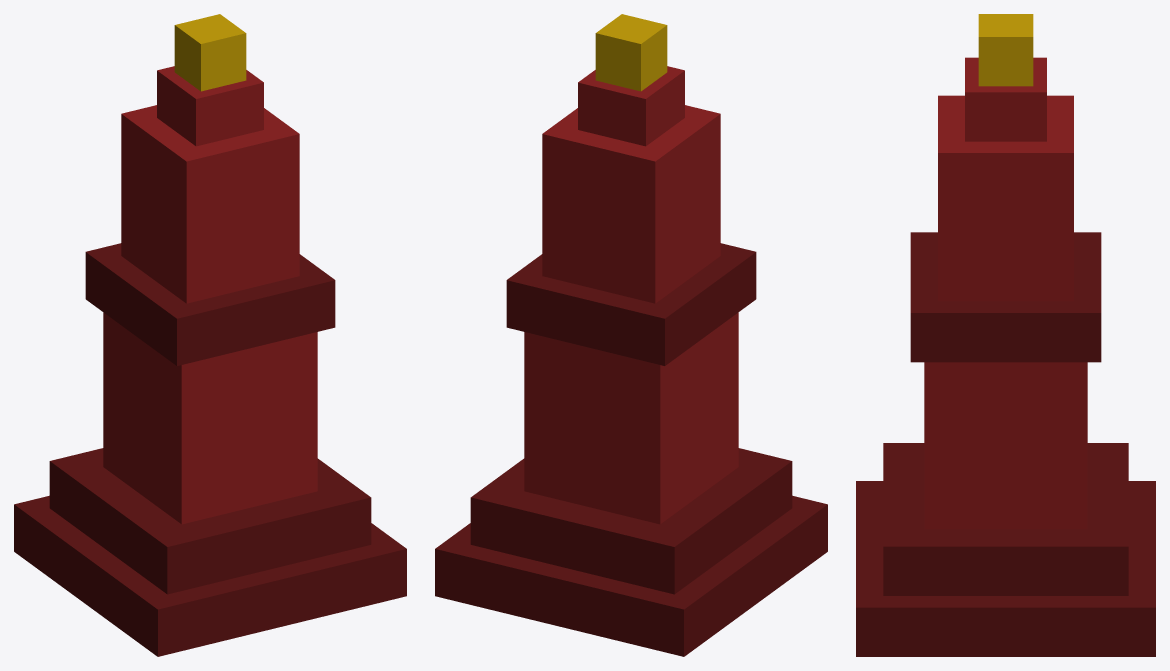
Rendered from bishop.gltf.
3 views of the same model, side by side, from view 1: azimuth 30°, elevation 25°; view 2: azimuth 150°, elevation 25°; view 3: azimuth 270°, elevation 25° (orthographic). The views are drawn at different scales.
Parts seen in each view (by area): view 1: body, head, base, foot, collar, mitre, orb; view 2: body, head, base, foot, collar, mitre, orb; view 3: body, base, head, foot, collar, mitre, orb.
Part boxes in pixels (x1,y1,x2,y2): body: (103, 312, 317, 524); head: (121, 105, 299, 303); base: (14, 495, 406, 656); foot: (49, 448, 371, 594); collar: (85, 243, 335, 365); mitre: (157, 66, 263, 146); orb: (174, 14, 246, 91); body: (524, 312, 738, 524); head: (542, 105, 720, 303); base: (435, 495, 827, 656); foot: (470, 448, 792, 594); collar: (506, 243, 756, 365); mitre: (578, 66, 684, 146); orb: (595, 14, 667, 91); body: (924, 362, 1087, 529); base: (856, 481, 1155, 656); head: (938, 95, 1073, 301); foot: (883, 443, 1128, 595); collar: (910, 232, 1101, 362); mitre: (965, 57, 1046, 141); orb: (978, 14, 1033, 86).
Bounding box in the file's own units: 0.6875 × 1.44 × 0.6875.
3 materials, 3 textured.
